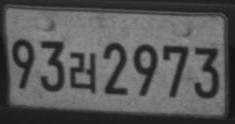2: (102, 41, 127, 95)
3: (39, 39, 65, 91), (194, 46, 219, 98)
7: (162, 44, 189, 98)
9: (133, 43, 157, 96), (11, 39, 34, 88)
러: (69, 51, 96, 94)
